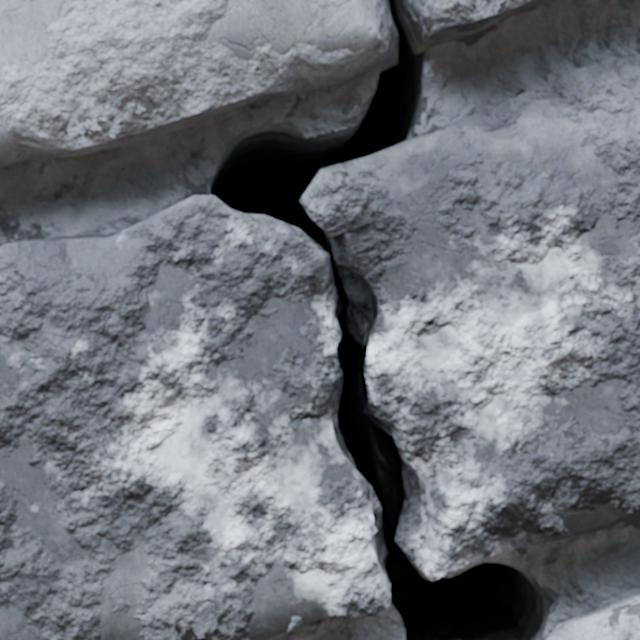broken_brick: (300, 55, 639, 580), (0, 195, 389, 639), (0, 0, 397, 168), (410, 0, 556, 51), (546, 595, 639, 639)
crack: (207, 0, 550, 639)
